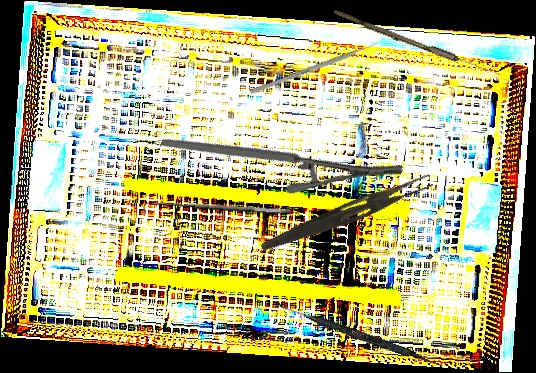Dressing Forceps: (259, 167, 434, 261)
Hook Surgical: (141, 196, 291, 227)
Needle Holder: (159, 64, 406, 247)
Pusher: (249, 38, 387, 95)
Spatula Surgical: (274, 301, 445, 369)
Surgical Spoon: (332, 9, 503, 79)
